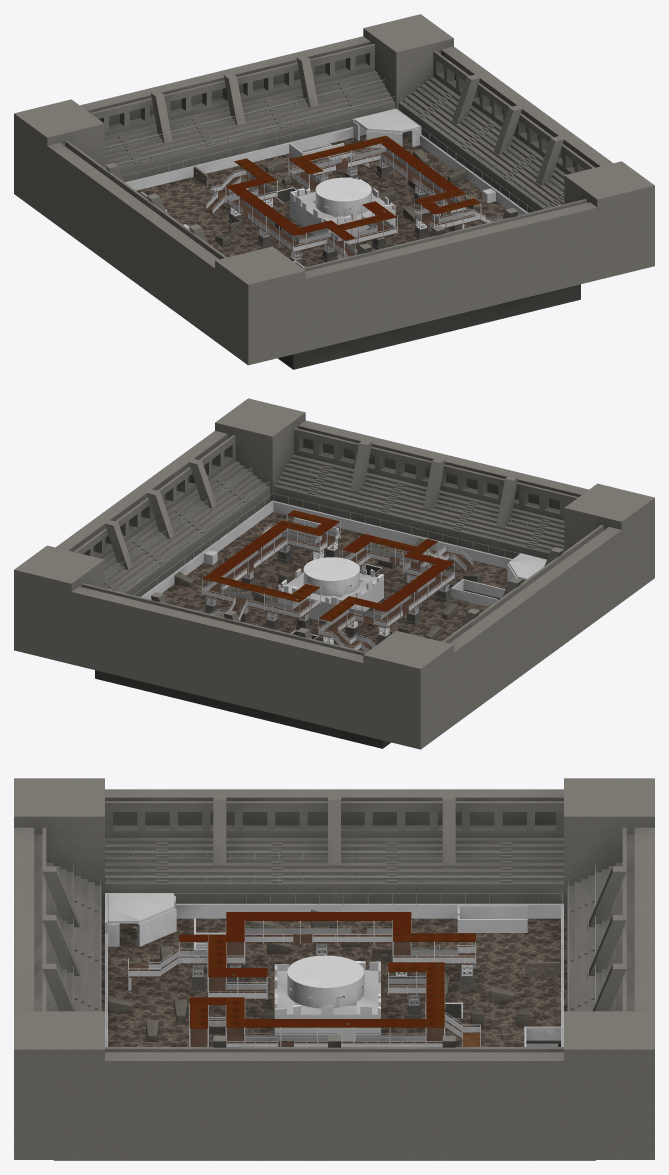
The model's file is stage_bb.glb.
3 renders of one model, top to bottom at view 1: azimuth 30°, elevation 25°; view 2: azimuth 150°, elevation 25°; view 3: azimuth 270°, elevation 25°, orthographic. The views are drawn at different scales.
Parts seen in each view (by area): view 1: vis_bb_stands_building_s_noeye, concrete_ground_1F, vis_bb_stands_building_w_noeye, vis_bb_stands_n_noeye, vis_bb_stands_building_n_noeye, vis_bb_stands_tower_sw_noeye, vis_bb_stands_e_noeye, vis_bb_stands_tower_se_noeye, vis_bb_stands_building_e_noeye, vis_bb_stands_tower_nw_noeye, vis_bb_stands_tower_ne_noeye, concrete_wall_outer_n (+19 smaller); view 2: vis_bb_stands_building_n_noeye, vis_bb_stands_building_w_noeye, vis_bb_stands_s_noeye, concrete_ground_1F, vis_bb_stands_building_s_noeye, vis_bb_stands_tower_nw_noeye, vis_bb_stands_e_noeye, vis_bb_stands_tower_ne_noeye, vis_bb_stands_building_e_noeye, vis_bb_stands_tower_sw_noeye, vis_bb_stands_tower_se_noeye, concrete_wall_outer_s (+19 smaller); view 3: vis_bb_stands_building_e_noeye, vis_bb_stands_w_noeye, concrete_ground_1F, vis_bb_stands_building_w_noeye, vis_bb_stands_tower_ne_noeye, vis_bb_stands_tower_se_noeye, vis_bb_stands_tower_sw_noeye, vis_bb_stands_tower_nw_noeye, vis_bb_stands_building_n_noeye, vis_bb_stands_building_s_noeye, vis_bb_stands_n_noeye, vis_bb_stands_s_noeye (+31 smaller).
Part boxes in pixels (x1,y1,x2,y2): vis_bb_stands_building_s_noeye: (302,199,597,351); concrete_ground_1F: (136,133,580,369); vis_bb_stands_building_w_noeye: (47,140,226,340); vis_bb_stands_n_noeye: (104,70,395,182); vis_bb_stands_building_n_noeye: (80,36,374,136); vis_bb_stands_tower_sw_noeye: (215,246,305,365); vis_bb_stands_e_noeye: (398,77,566,212); vis_bb_stands_tower_se_noeye: (564,161,654,279); vis_bb_stands_building_e_noeye: (433,46,612,174); vis_bb_stands_tower_nw_noeye: (14,99,104,217); vis_bb_stands_tower_ne_noeye: (363,14,453,109); concrete_wall_outer_n: (125,108,397,190); vis_bb_stands_building_n_noeye: (71,583,366,735); vis_bb_stands_building_w_noeye: (442,525,621,724); vis_bb_stands_s_noeye: (273,454,564,559); concrete_ground_1F: (95,511,524,748); vis_bb_stands_building_s_noeye: (294,420,588,520); vis_bb_stands_tower_nw_noeye: (363,630,453,749); vis_bb_stands_e_noeye: (102,461,270,596); vis_bb_stands_tower_ne_noeye: (14,545,104,664); vis_bb_stands_building_e_noeye: (56,430,235,558); vis_bb_stands_tower_sw_noeye: (564,483,654,601); vis_bb_stands_tower_se_noeye: (215,398,305,501); concrete_wall_outer_s: (271,500,546,568); vis_bb_stands_building_e_noeye: (105,1047,563,1159); vis_bb_stands_w_noeye: (105,838,563,903); concrete_ground_1F: (53,918,595,1160); vis_bb_stands_building_w_noeye: (105,789,563,837); vis_bb_stands_tower_ne_noeye: (564,1011,654,1159); vis_bb_stands_tower_se_noeye: (14,1011,104,1159); vis_bb_stands_tower_sw_noeye: (14,778,104,918); vis_bb_stands_tower_nw_noeye: (564,778,654,918); vis_bb_stands_building_n_noeye: (622,827,654,1011); vis_bb_stands_building_s_noeye: (14,827,46,1011); vis_bb_stands_n_noeye: (567,862,622,1011); vis_bb_stands_s_noeye: (46,862,101,1011).
Bounding box in the file's own units: 79.2 × 20.5 × 78.98.
12 materials, 11 textured.
